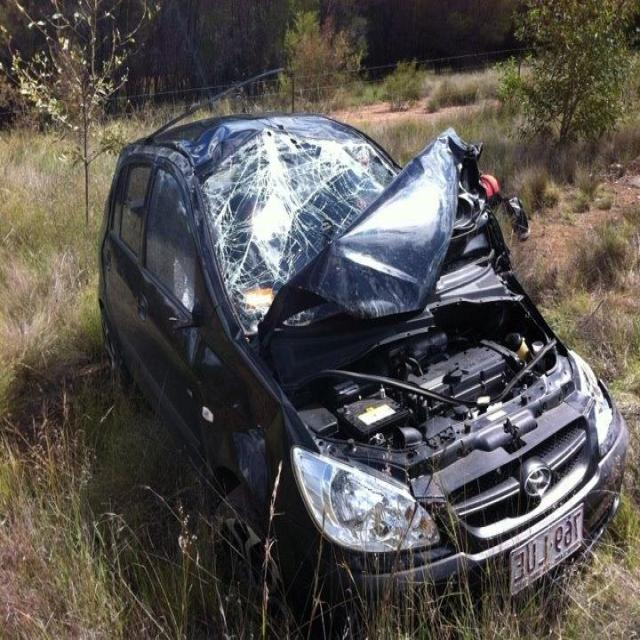accident: (99, 115, 629, 595)
